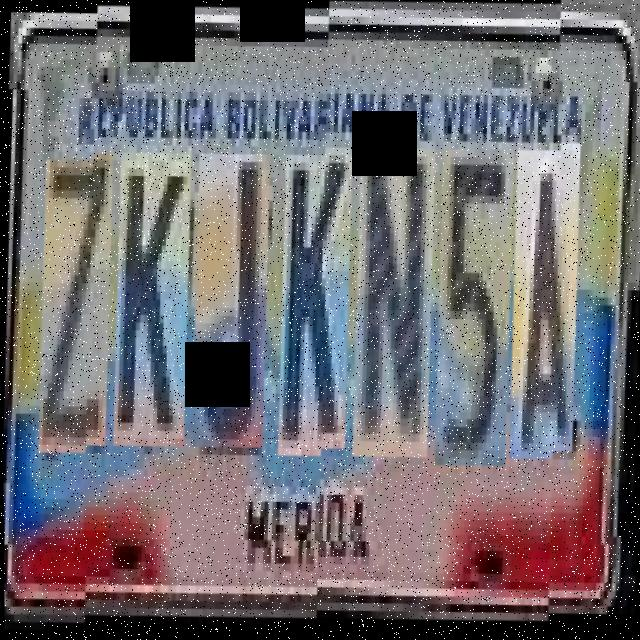5: (431, 150, 514, 469)
A: (506, 151, 582, 463)
J: (188, 145, 271, 442)
K: (274, 146, 354, 451), (111, 144, 193, 440)
N: (349, 148, 437, 460)
Z: (36, 143, 115, 439)
